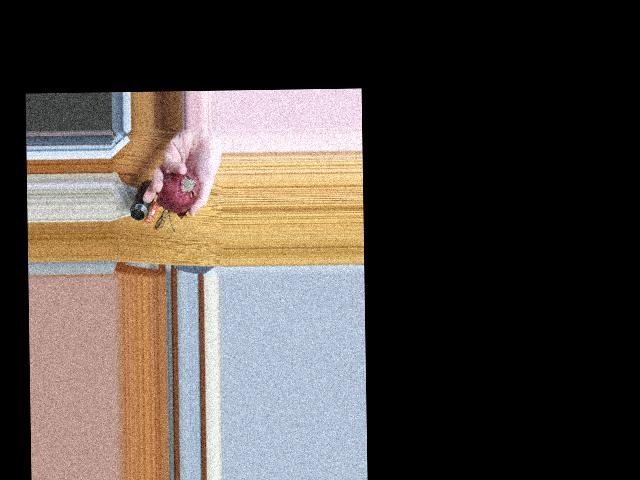onion: (160, 167, 203, 210)
